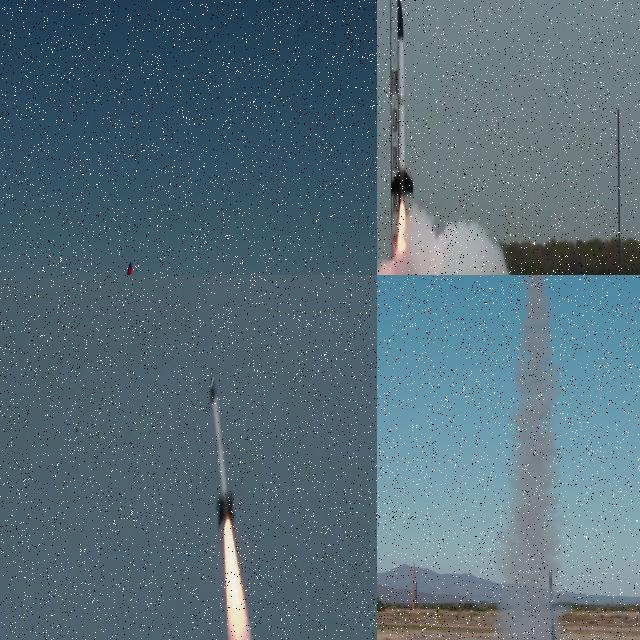Rocket: (391, 0, 414, 206), (210, 377, 236, 529), (118, 261, 133, 275)
